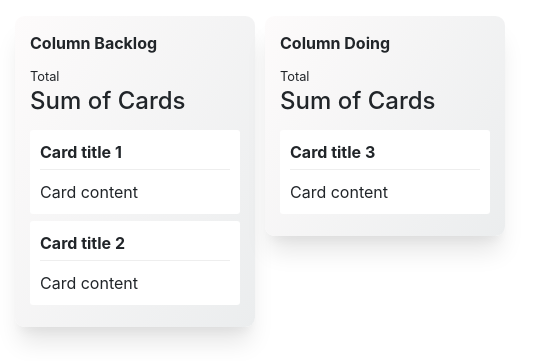
Test: <Board /> › when the board is uncontrolled › about the column renaming › when the component use the default header template › when the component receives the "allowRenameColumn" prop › when the user renames a column › renames the column
The width and height of the screenshot is (548, 361).
Click the text "Column Backlog" at (94, 43), box top-left (30, 31), bottom-right (157, 55)
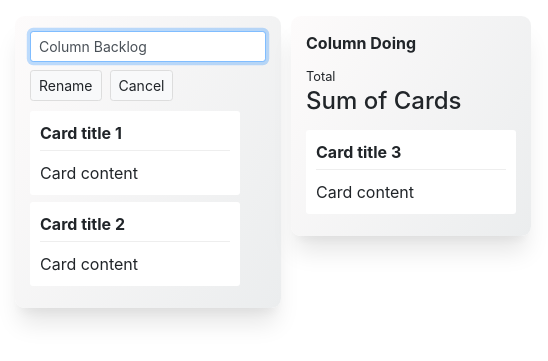
Replace the text in the field with "New title" at (148, 46), box top-left (30, 31), bottom-right (266, 62)
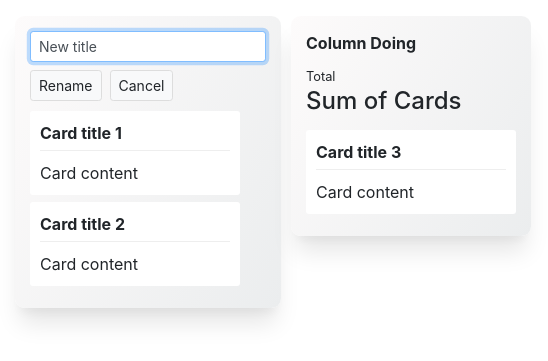
Click the button "Rename" at (66, 86), box top-left (30, 70), bottom-right (102, 101)
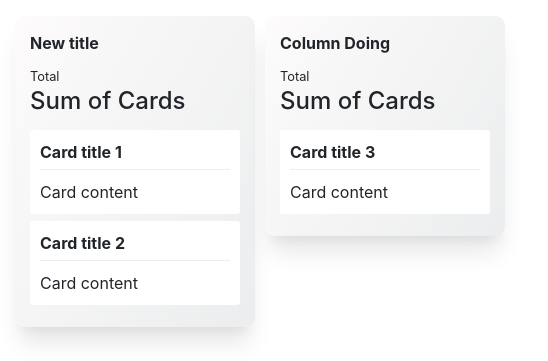
Expected: the text "Column Backlog" is not shown
Expected: the text "New title" is shown, top-left (30, 31), bottom-right (99, 55)
